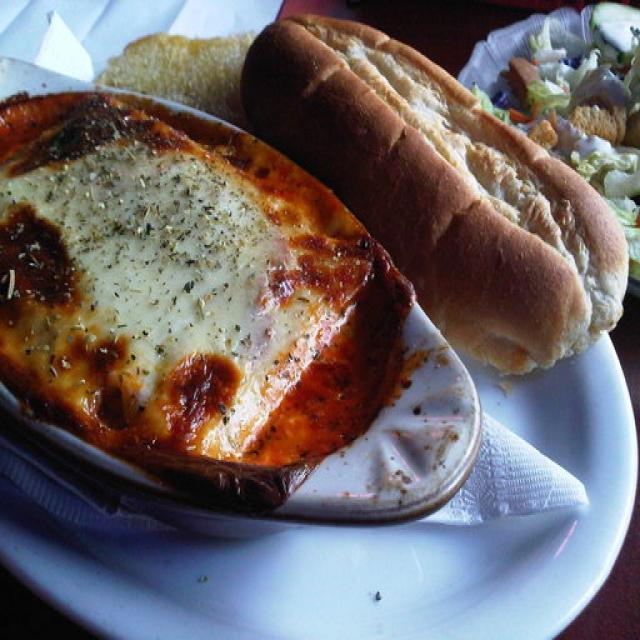Lasagna: (1, 85, 320, 517)
